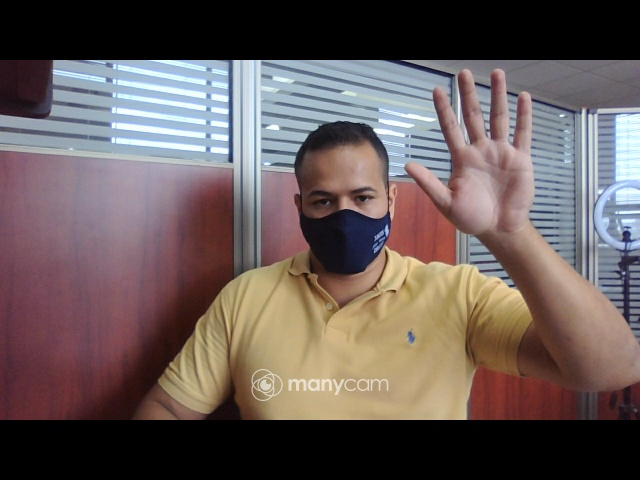Hello: (399, 67, 541, 242)
